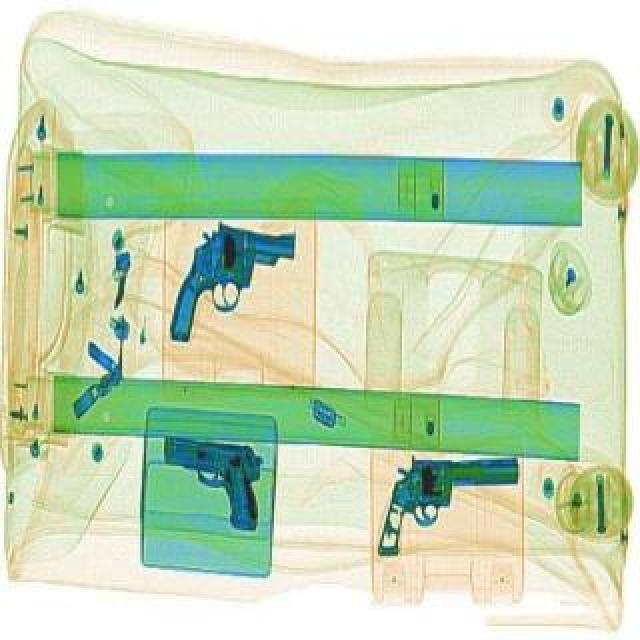gun: (170, 216, 302, 354), (372, 450, 524, 552), (156, 432, 274, 530)
